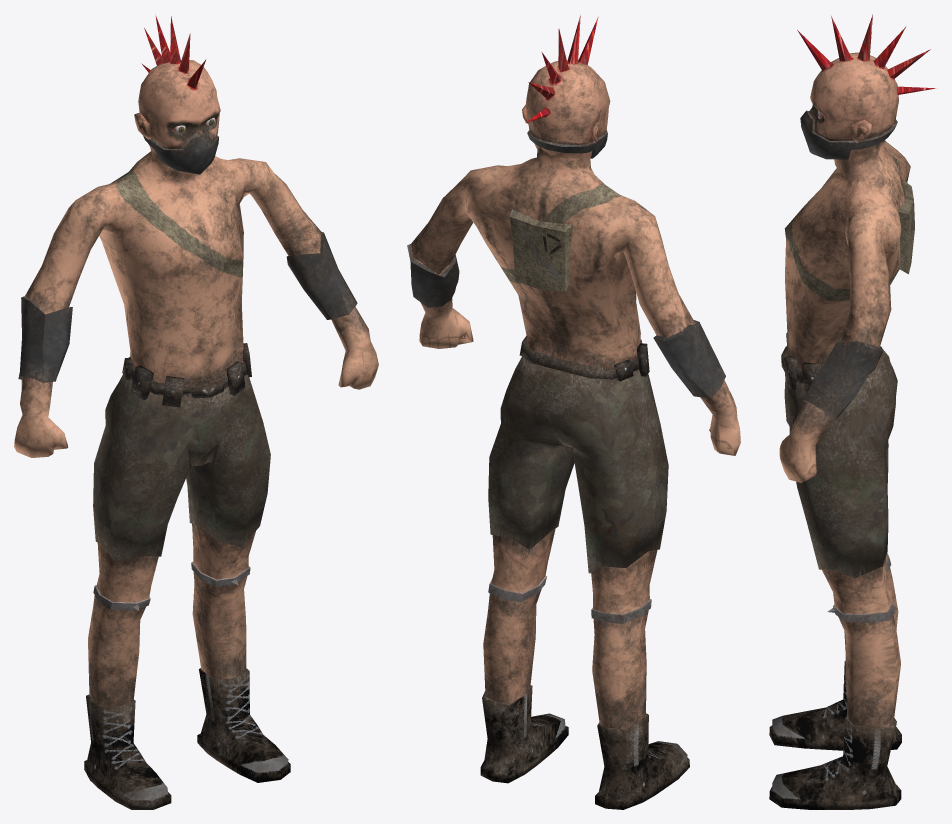
Rendered from Anim_idle_npc2.0031.obj.
The picture shows the model from 3 angles, left to right: view 1: azimuth 30°, elevation 25°; view 2: azimuth 150°, elevation 25°; view 3: azimuth 270°, elevation 25°; orthographic projection.
Visible parts, largest first — view 1: polySurface1; view 2: polySurface1; view 3: polySurface1.
Part boxes in pixels (x1,y1,x2,y2): polySurface1: (14,14,378,809); polySurface1: (407,15,740,809); polySurface1: (769,14,935,809).
Bounding box in the file's own units: 4.85 × 10.18 × 2.04.
